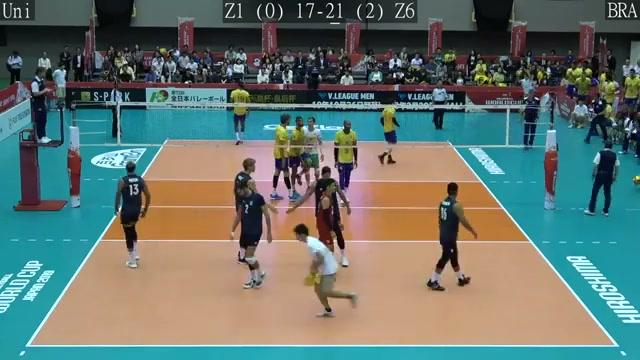ball: (159, 47, 171, 61)
